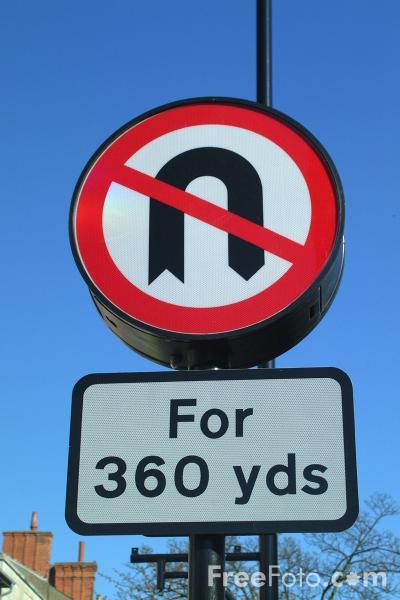no_u_turn: (68, 100, 339, 332)
